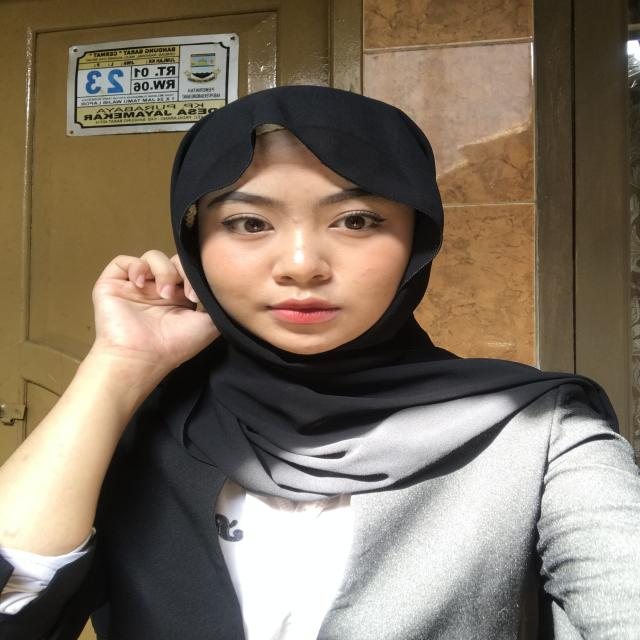ibu: (64, 234, 270, 392)
